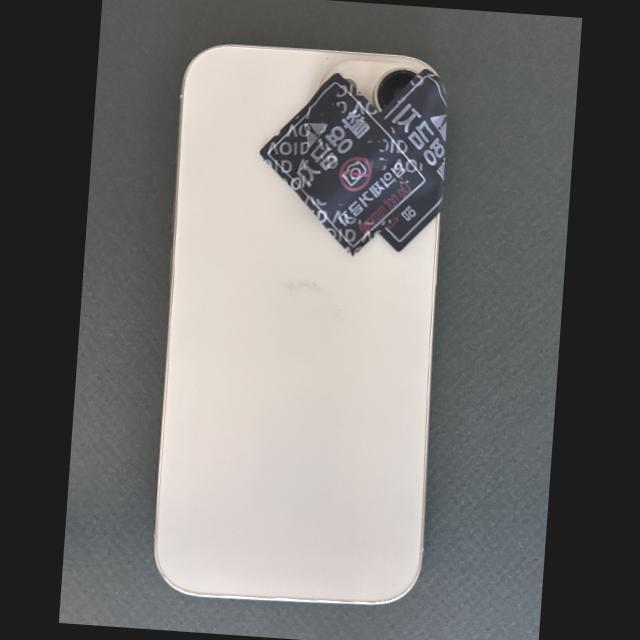lens: (373, 67, 417, 113)
phone: (153, 45, 448, 604)
sticker: (259, 73, 436, 256), (378, 68, 448, 253)
